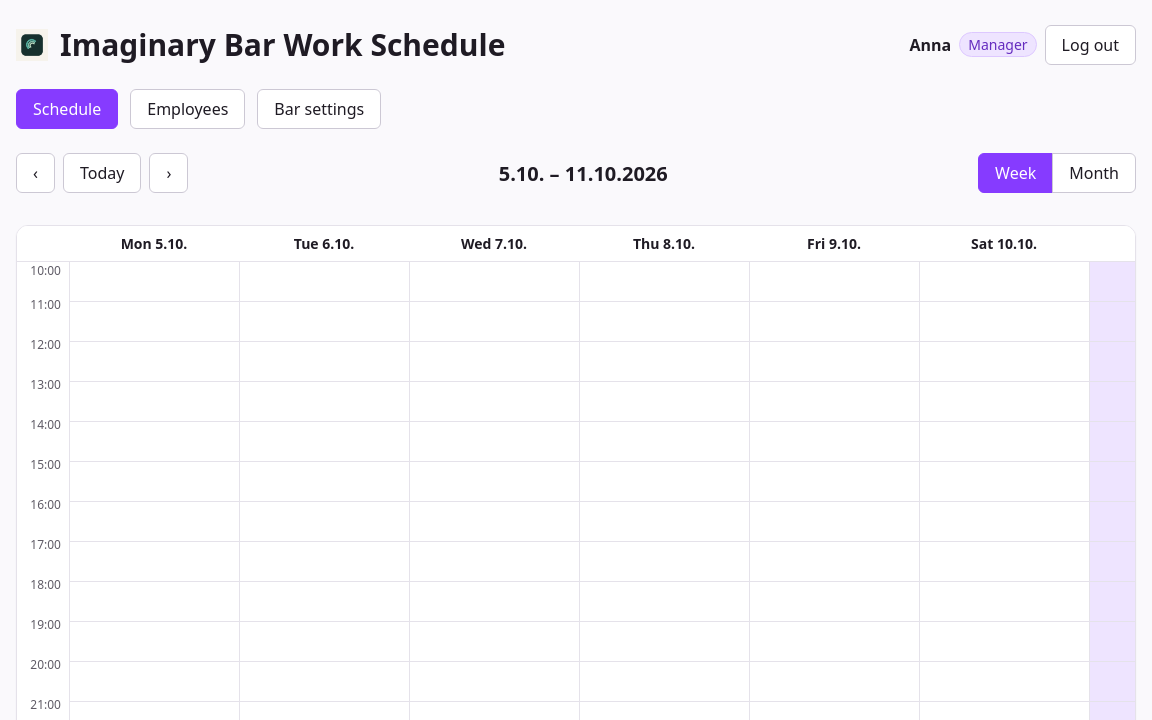
Scenario: manager can switch between the schedule and the employees
Click the button "Employees": (188, 109) [130,89,245,129]
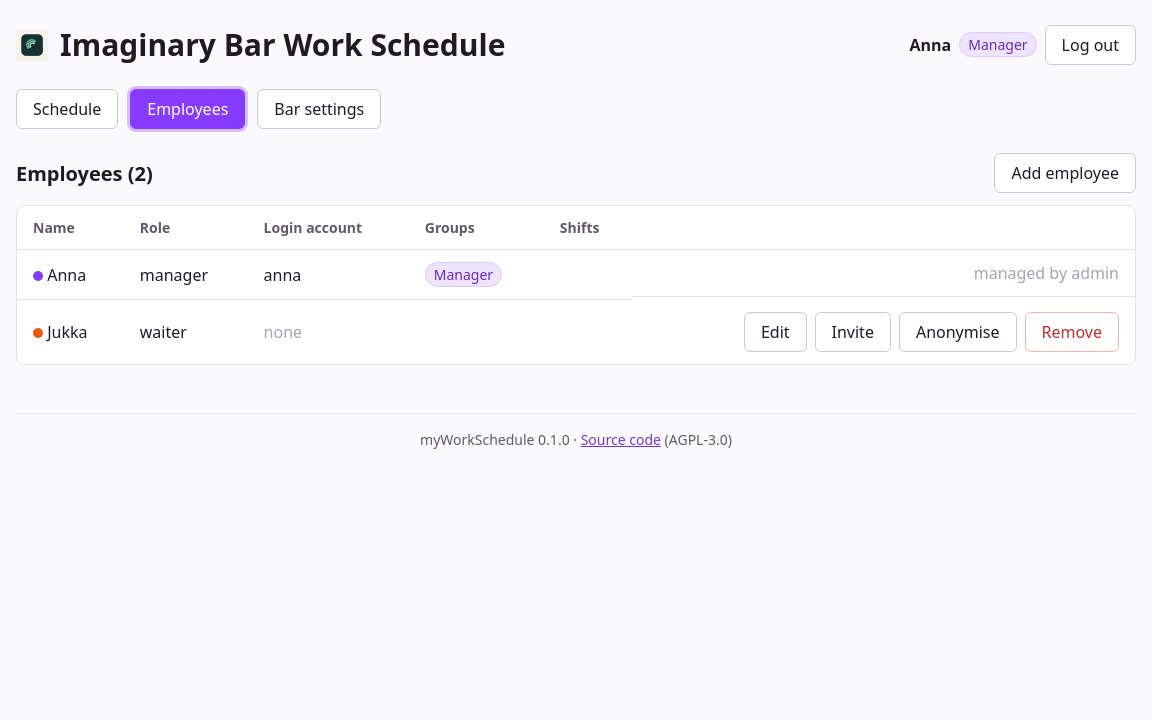
Check: the text "Jukka" is shown, box [17,300,124,364]
Check: the text "none" is shown, box [264,321,302,343]
